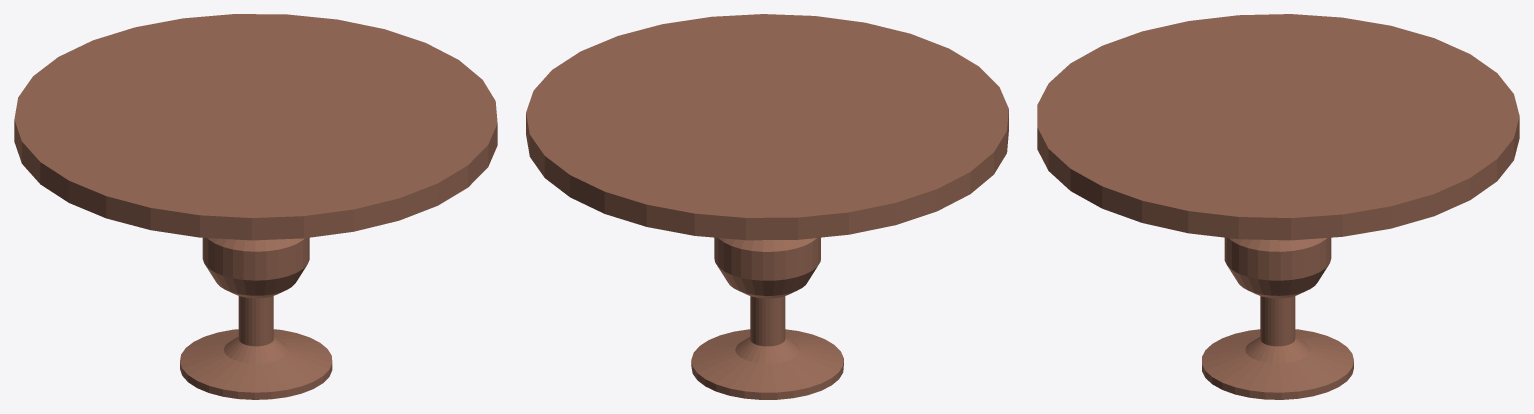
The model's file is table.glb.
3 views of the same model, side by side, from view 1: azimuth 30°, elevation 25°; view 2: azimuth 150°, elevation 25°; view 3: azimuth 270°, elevation 25° (orthographic).
Parts seen in each view (by area): view 1: Cylinder.001; view 2: Cylinder.001; view 3: Cylinder.001.
Part boxes in pixels (<box>): Cylinder.001: <box>14,14,497,399</box>; Cylinder.001: <box>526,14,1008,399</box>; Cylinder.001: <box>1037,14,1519,399</box>.
Size of the model in its own units: 3.34 by 1.92 by 3.33.
Materials: 1 (1 with a texture image).
